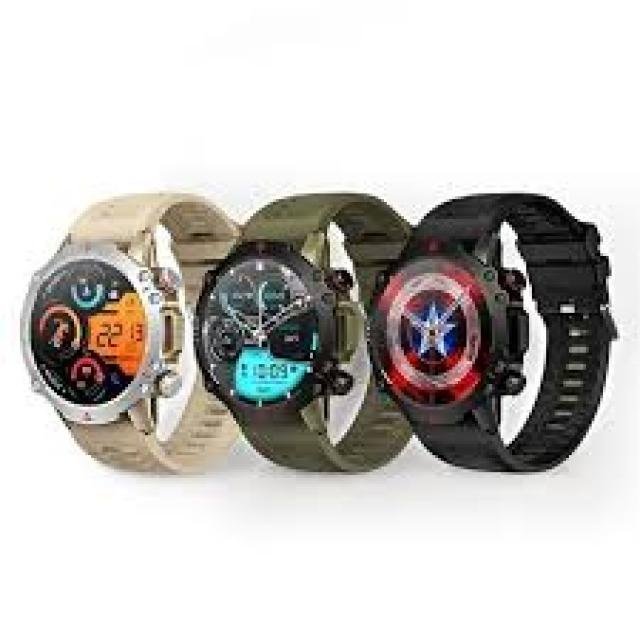objects: (373, 193, 614, 469), (23, 193, 236, 469), (202, 193, 407, 469)
